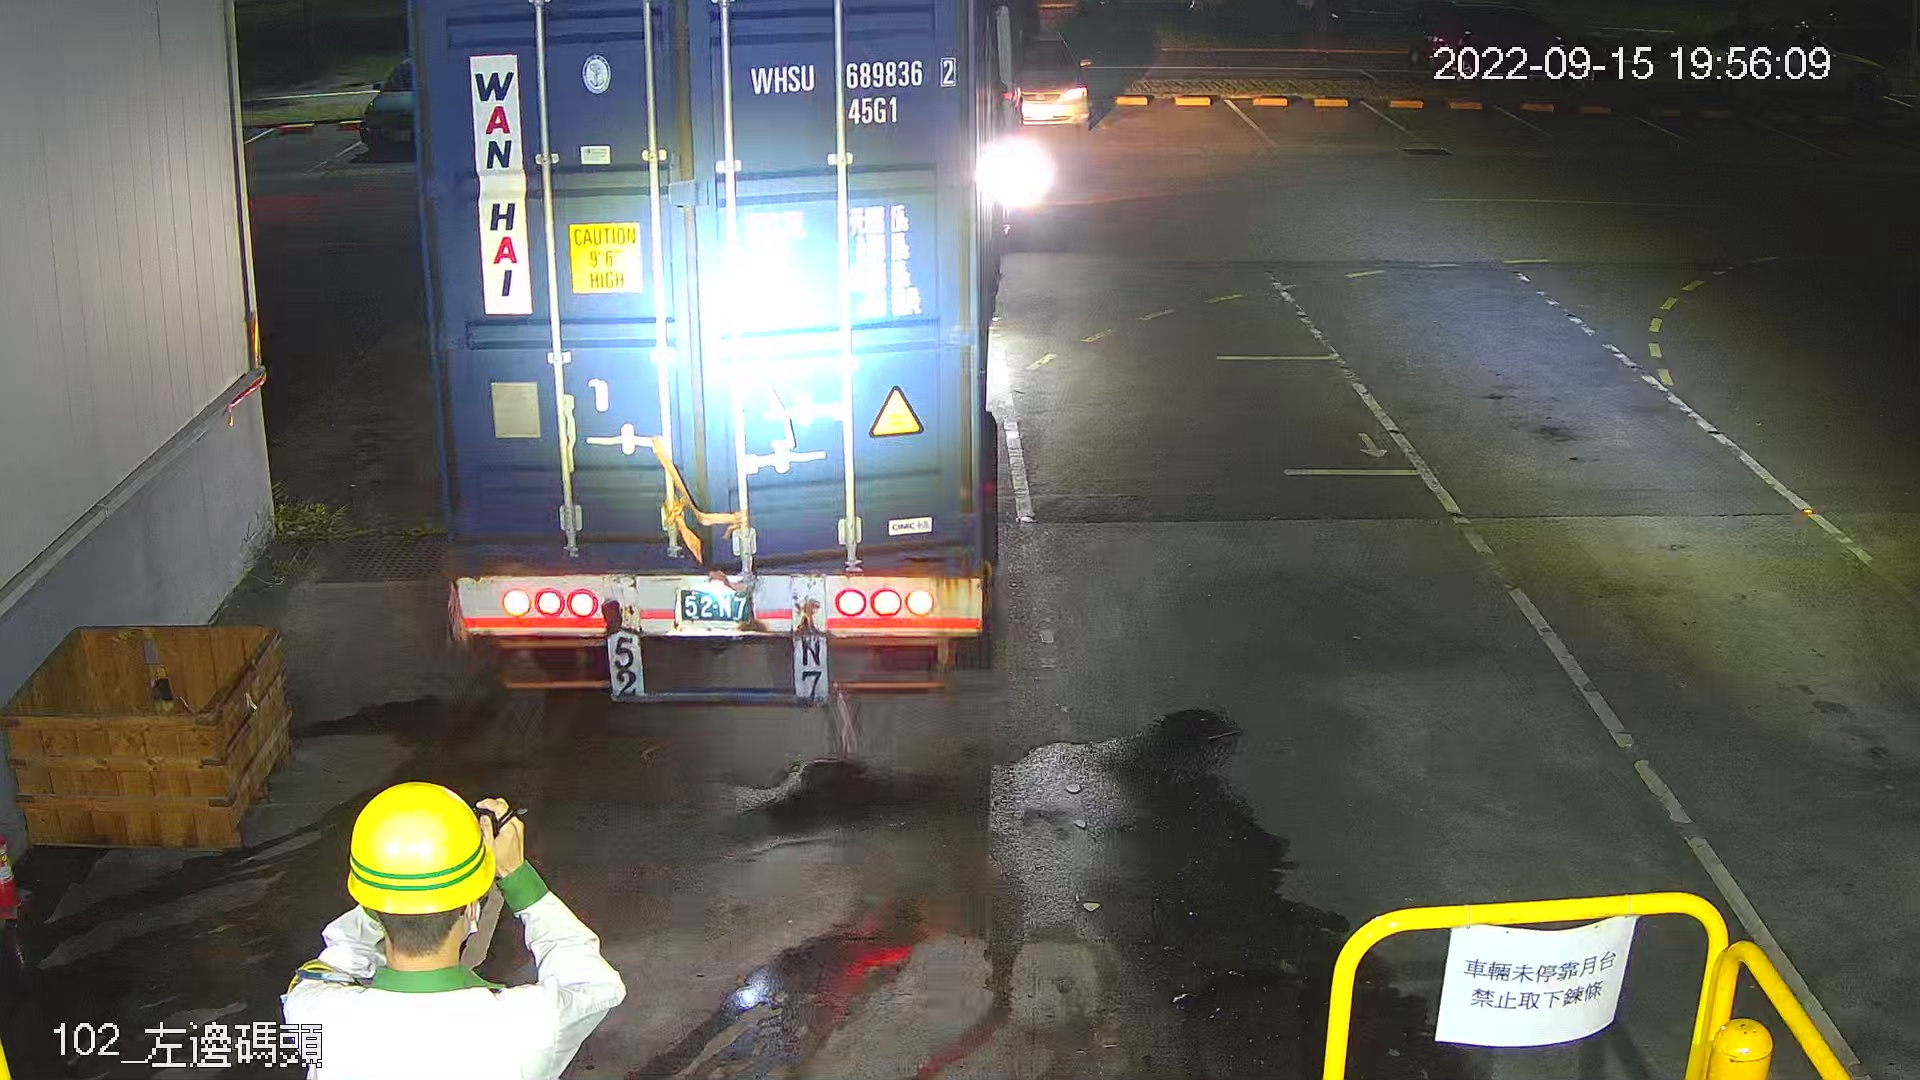container: (732, 47, 964, 132)
